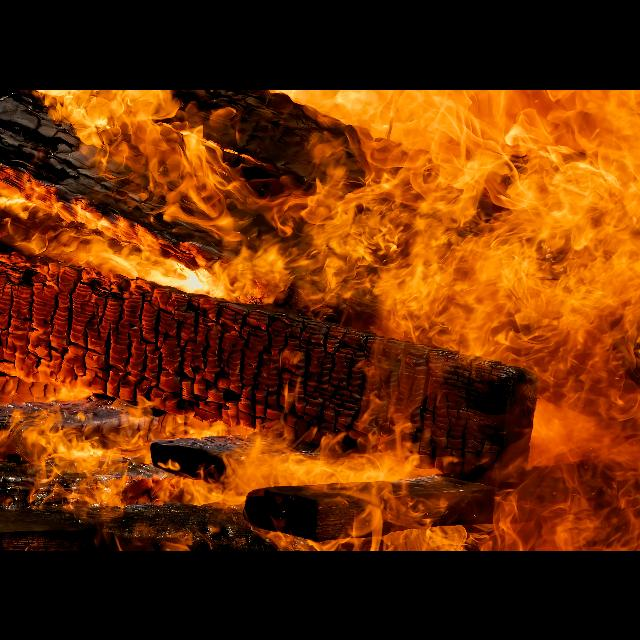fire: (28, 89, 640, 551)
